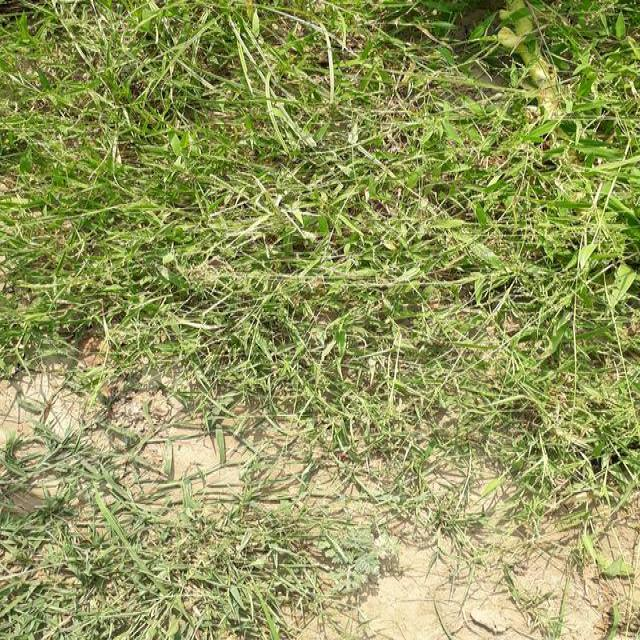weed: (0, 0, 628, 466), (0, 493, 398, 638)
